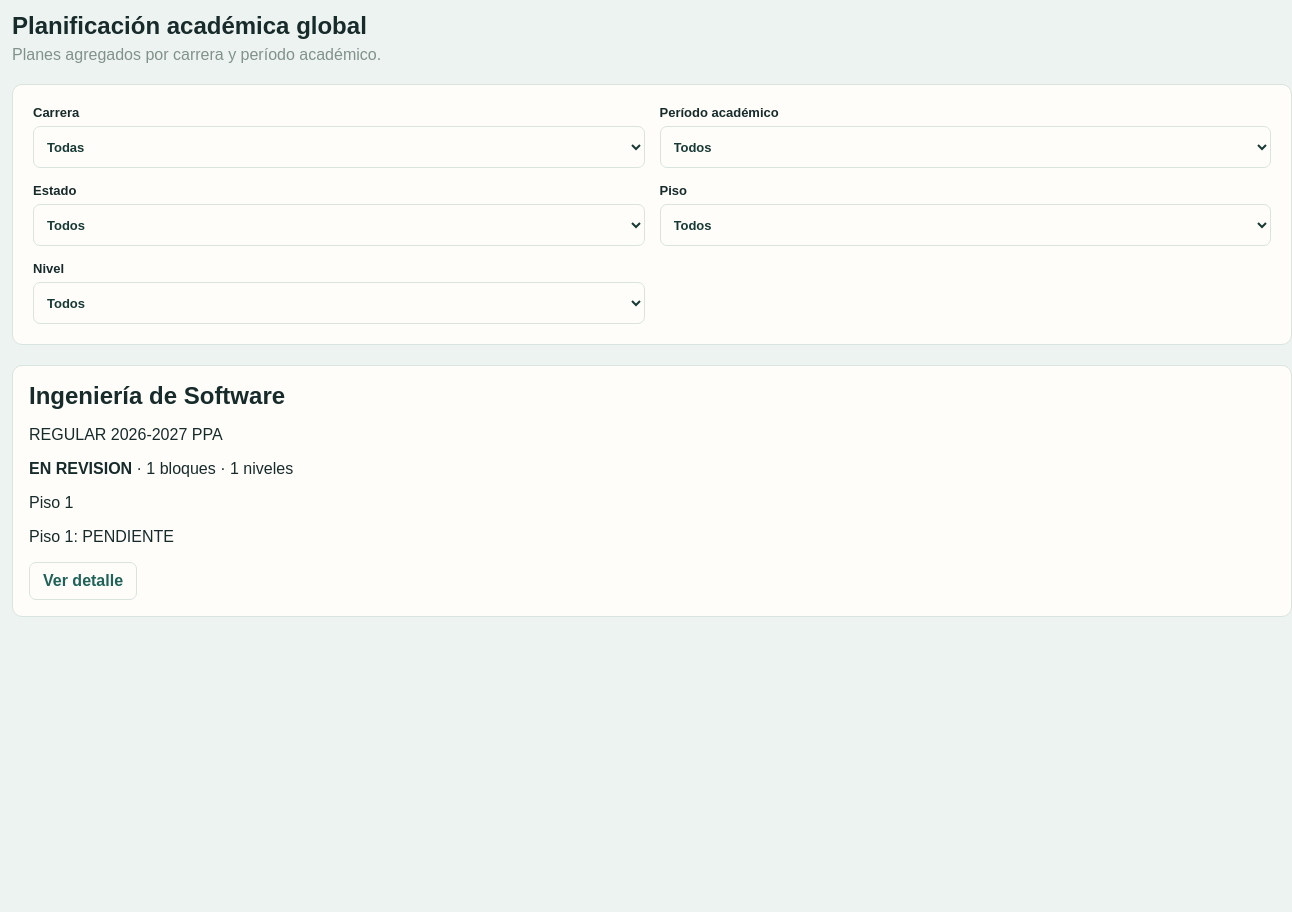
Scenario: AdministradorPlanificacionGlobal › muestra planes agregados, revisiones por piso y detalle por nivel
This screenshot has width=1292, height=912.
Check: the text "Piso 1: PENDIENTE" is shown, box [29,528,174,545]
Click the button "Ver detalle": (83,581) [29,562,137,600]
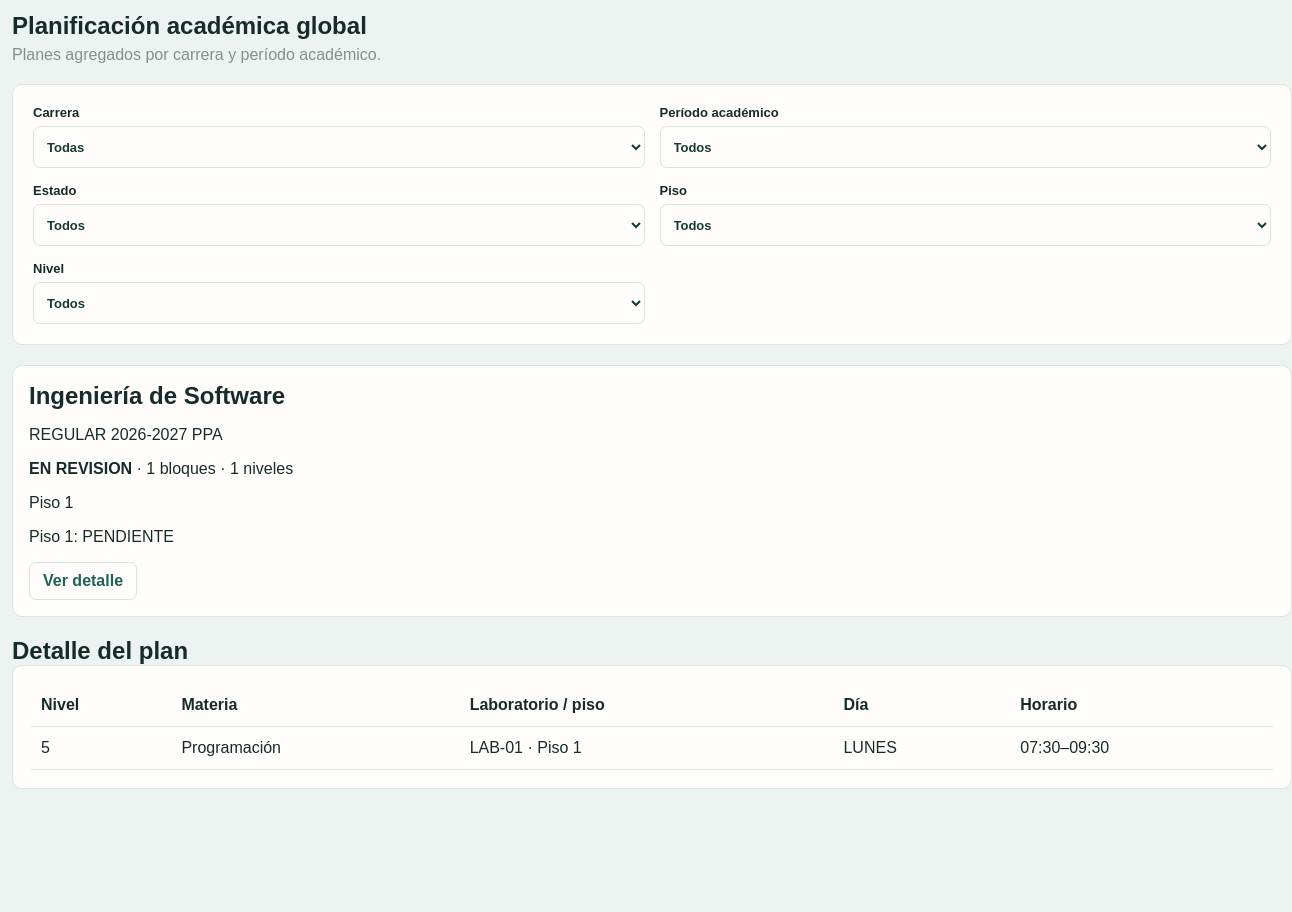
Check: the text "Programación" is shown, box [171,726,460,770]
Check: the text "LAB-01 · Piso 1" is shown, box [460,726,833,770]
